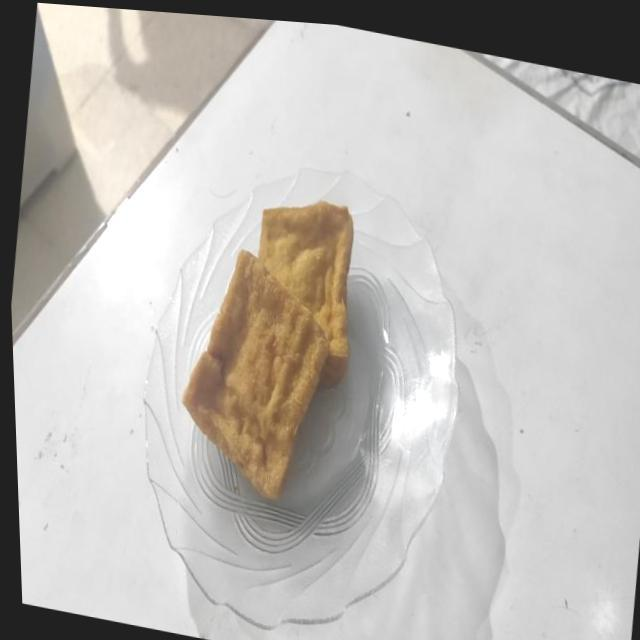tahu_goreng: (182, 250, 328, 498), (258, 200, 352, 386)
